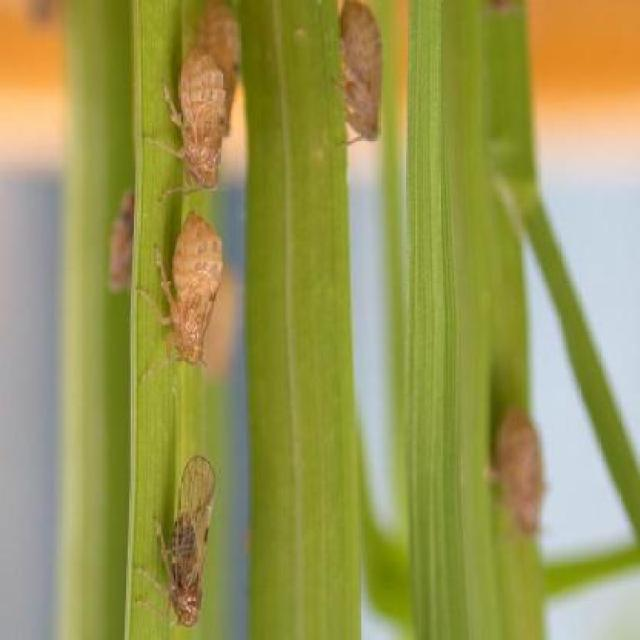brown-planthopper: (157, 455, 217, 630), (162, 208, 224, 368), (169, 47, 225, 191), (492, 400, 545, 538), (339, 2, 384, 143)
